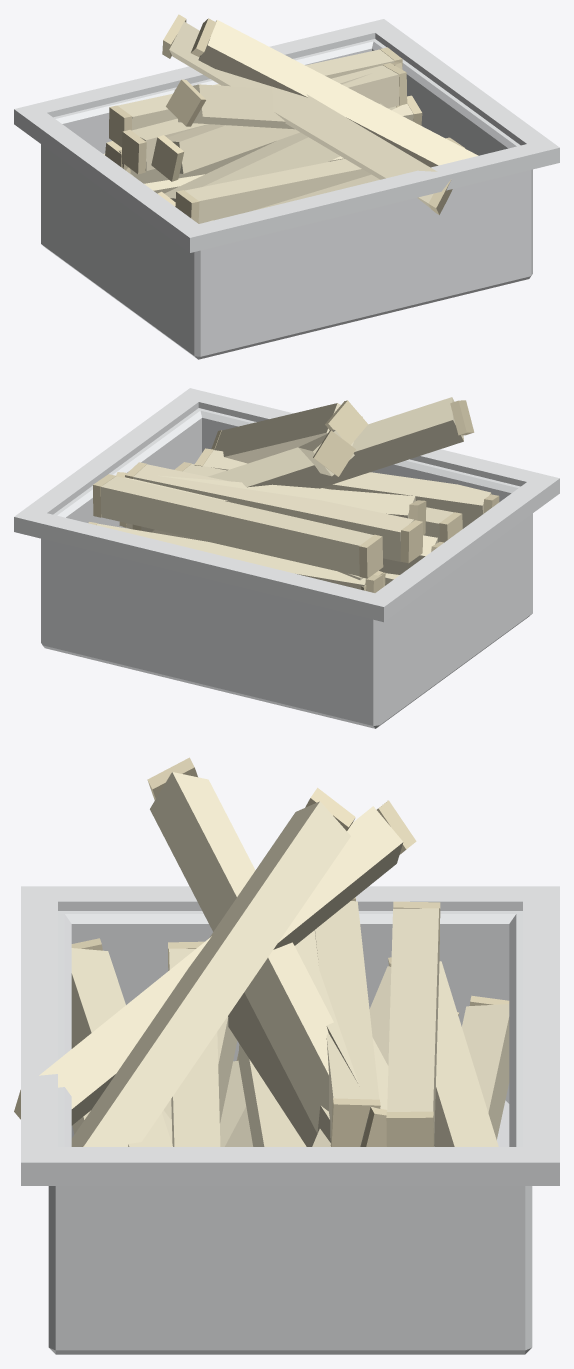
The model's file is papas_crudas.glb.
3 renders of one model, top to bottom at view 1: azimuth 30°, elevation 25°; view 2: azimuth 150°, elevation 25°; view 3: azimuth 270°, elevation 25°, orthographic. The views are drawn at different scales.
Visible parts, largest first — view 1: papas_crudas_acero_bandeja, papas_crudas_papa_cruda, papas_crudas_cromo, papas_crudas_papa_cruda_punta; view 2: papas_crudas_acero_bandeja, papas_crudas_papa_cruda, papas_crudas_cromo, papas_crudas_papa_cruda_punta; view 3: papas_crudas_papa_cruda, papas_crudas_acero_bandeja, papas_crudas_cromo, papas_crudas_papa_cruda_punta.
Part boxes in pixels (x1,y1,x2,y2): papas_crudas_acero_bandeja: [41, 39, 532, 359]; papas_crudas_papa_cruda: [103, 20, 478, 223]; papas_crudas_cromo: [14, 19, 559, 252]; papas_crudas_papa_cruda_punta: [105, 14, 465, 223]; papas_crudas_acero_bandeja: [41, 408, 532, 728]; papas_crudas_papa_cruda: [96, 397, 491, 589]; papas_crudas_cromo: [14, 388, 559, 622]; papas_crudas_papa_cruda_punta: [88, 400, 499, 592]; papas_crudas_papa_cruda: [39, 772, 509, 1146]; papas_crudas_acero_bandeja: [48, 911, 532, 1354]; papas_crudas_cromo: [21, 886, 559, 1185]; papas_crudas_papa_cruda_punta: [14, 757, 509, 1146].
Bounding box in the file's own units: 0.142 × 0.0937 × 0.1185.
